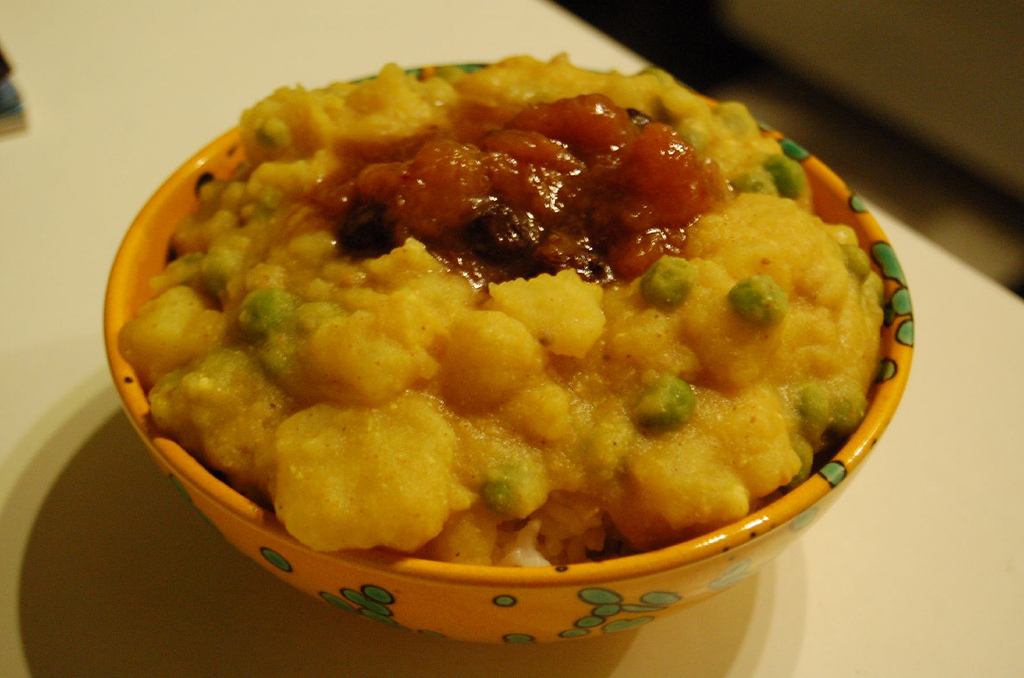boiled potatoes: (274, 227, 765, 498), (288, 407, 458, 545)
